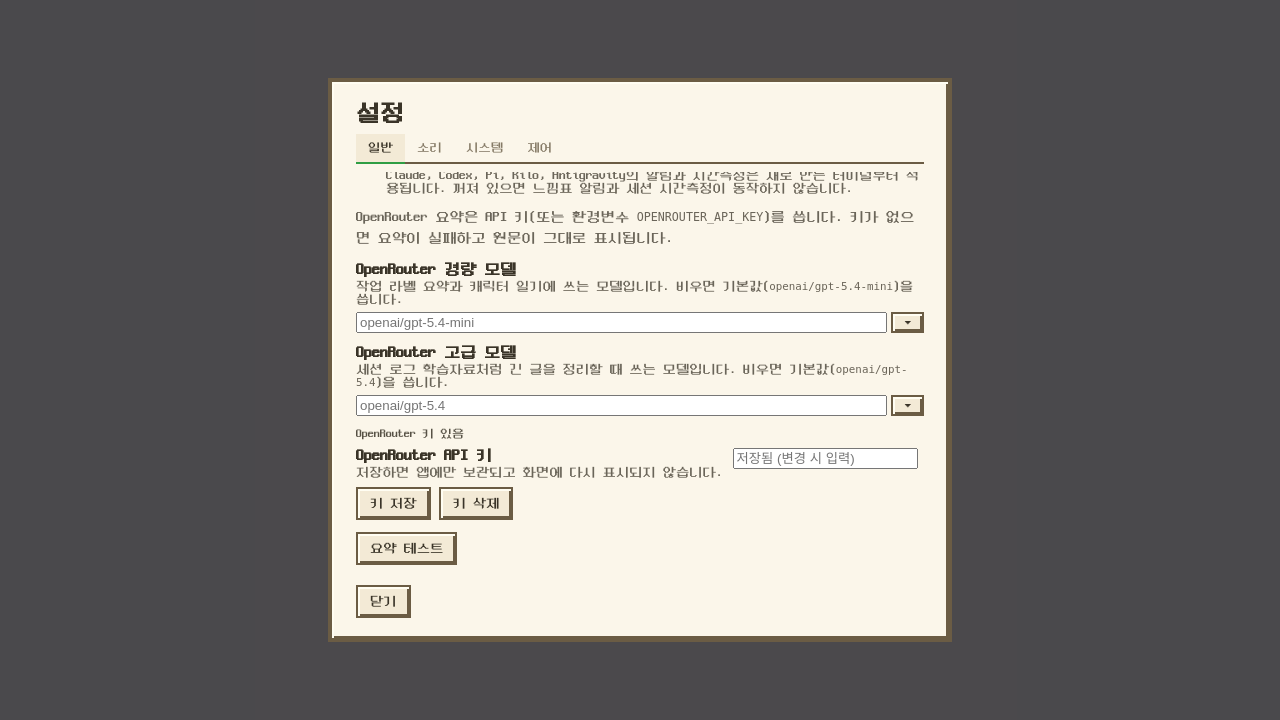
Test: SettingsDialog · OpenRouter 요약 설정 › 저장된 키에만 삭제 버튼이 뜨고, 누르면 OpenRouter 칸만 빈 문자열로 보낸다
(page scrolled)
expect the text "OpenRouter 키 있음" is shown: met, box x1=356 y1=428 x2=464 y2=440
Click the button "키 삭제" at (476, 503), box x1=439 y1=487 x2=513 y2=520
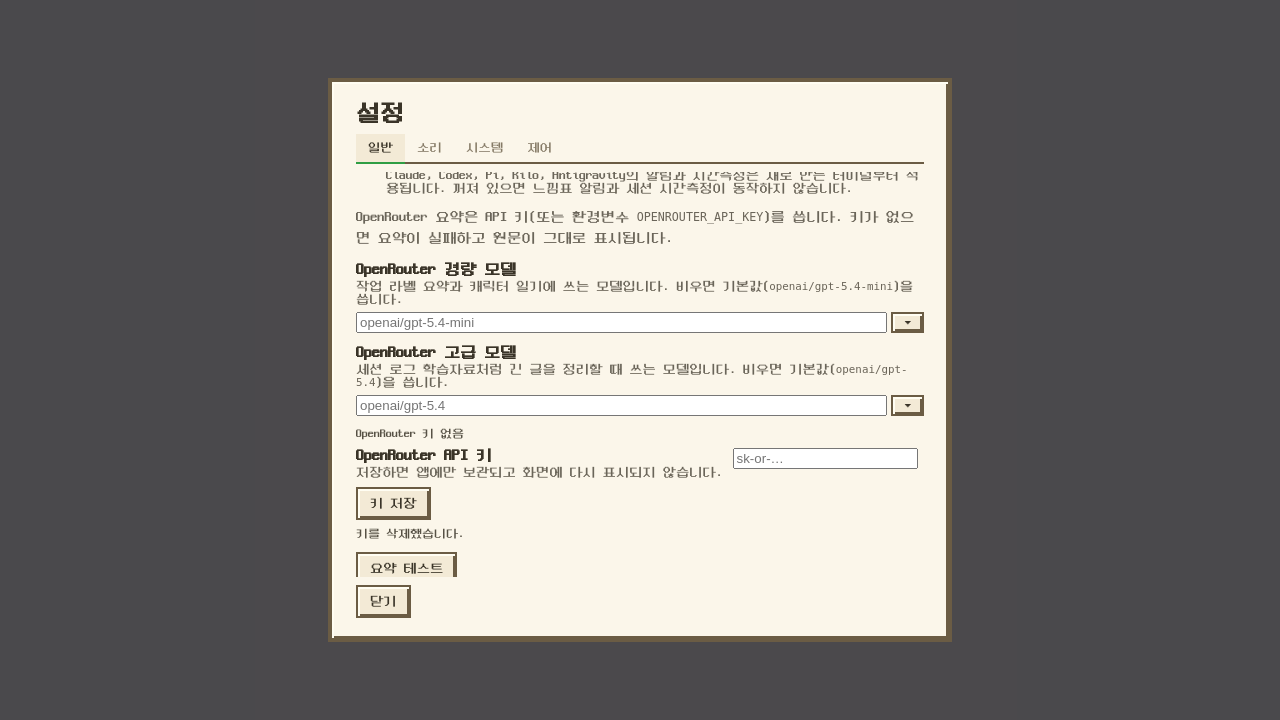
expect the text "키를 삭제했습니다." is shown: met, box x1=356 y1=528 x2=464 y2=540
